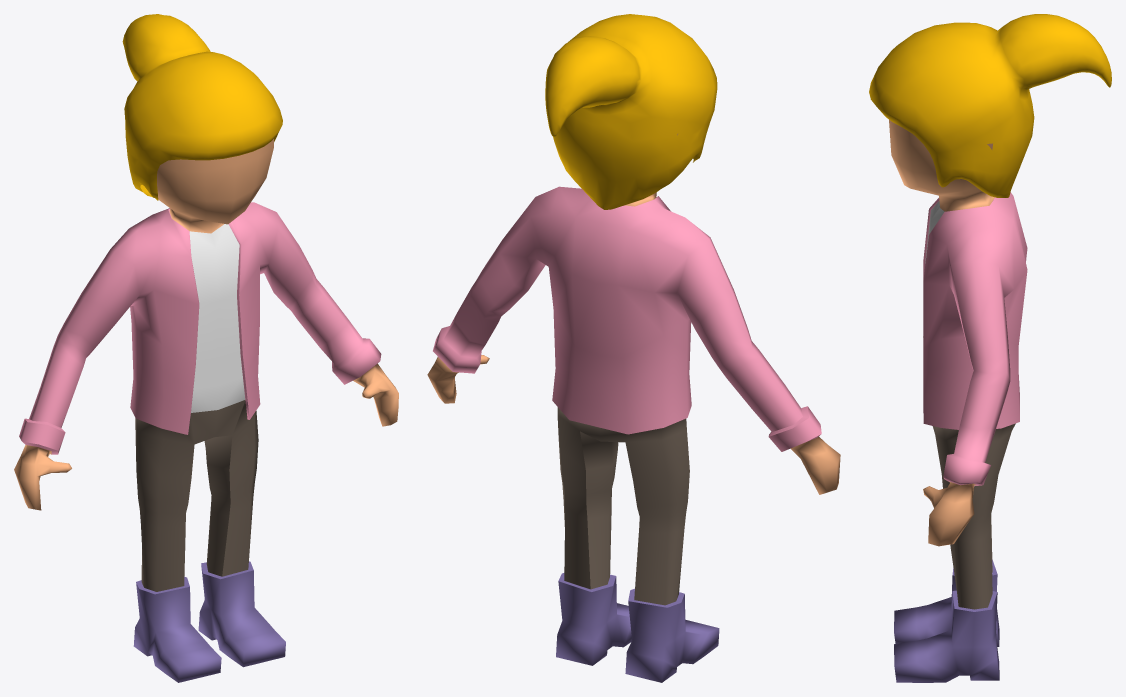
Rendered from Chracter_Woman.fbx.
3 views of the same model, side by side, from view 1: azimuth 30°, elevation 25°; view 2: azimuth 150°, elevation 25°; view 3: azimuth 270°, elevation 25° (orthographic). The views are drawn at different scales.
Parts seen in each view (by area): view 1: Character; view 2: Character; view 3: Character.
Boxes of the visible parts, bbox=[...] form: Character: bbox=[14, 14, 398, 682]; Character: bbox=[427, 14, 840, 682]; Character: bbox=[869, 14, 1111, 682].
Bounding box in the file's own units: 1.08 × 1.65 × 0.5699.
